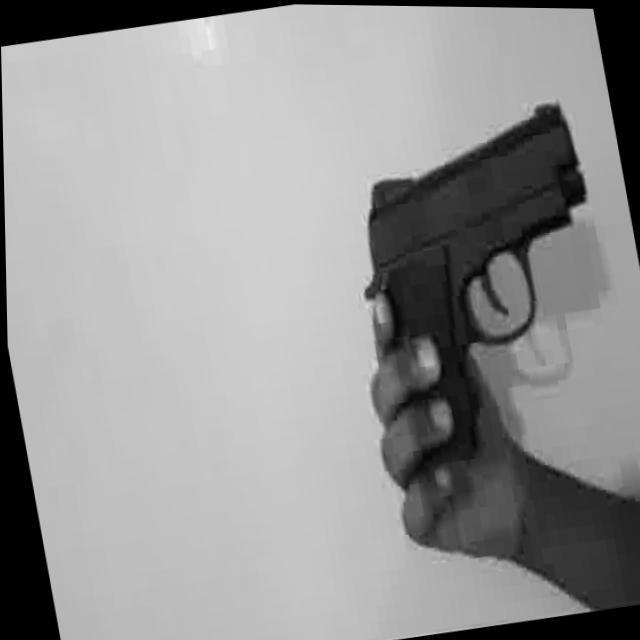weapon: (334, 90, 632, 472)
